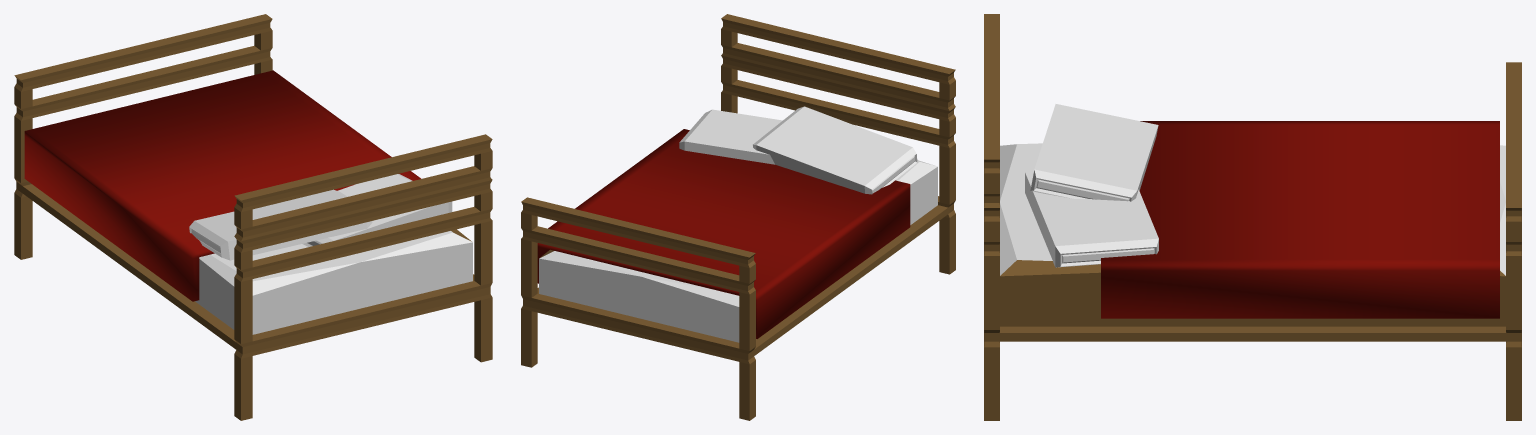
The model's file is Bedroom_Bed_GGJ.fbx.
3 renders of one model, left to right at view 1: azimuth 30°, elevation 25°; view 2: azimuth 150°, elevation 25°; view 3: azimuth 270°, elevation 25°, orthographic. The views are drawn at different scales.
Visible parts, largest first — view 1: Plane.003; view 2: Plane.003; view 3: Plane.003.
Part boxes in pixels (x1,y1,x2,y2): Plane.003: (14,14,492,420); Plane.003: (521,14,955,420); Plane.003: (984,14,1521,420).
Size of the model in its own units: 390 by 326 by 609.
